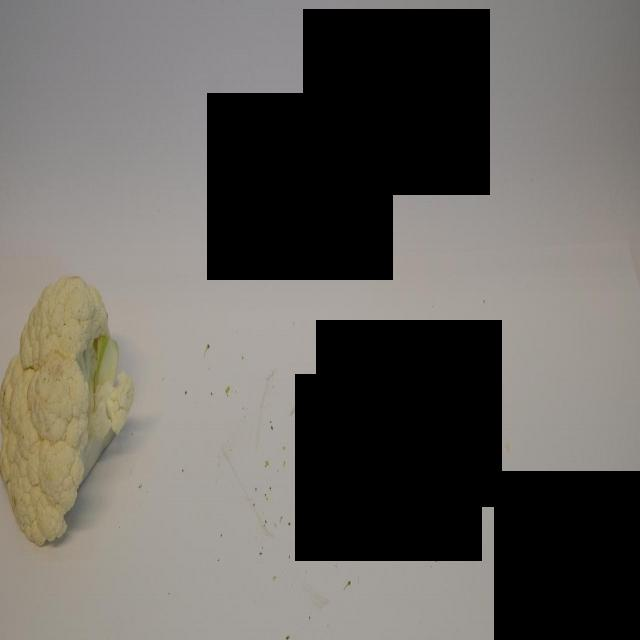cauliflower: (0, 275, 135, 548)
